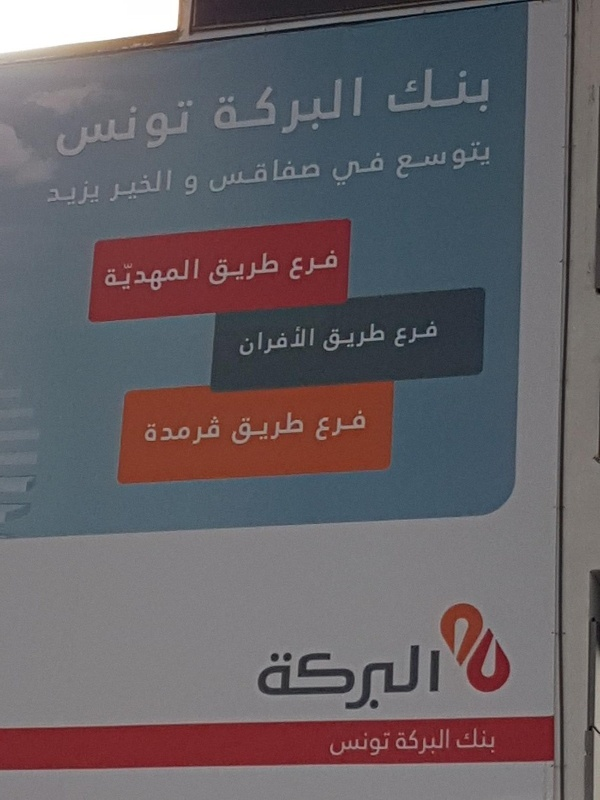text: (273, 642, 288, 714), (289, 642, 304, 714), (305, 642, 320, 714), (321, 642, 336, 714), (337, 642, 352, 714), (353, 642, 368, 714), (369, 642, 384, 714), (385, 642, 400, 714), (401, 642, 416, 714), (417, 642, 432, 714), (225, 74, 240, 142), (241, 74, 256, 142), (257, 74, 272, 142), (273, 74, 288, 142), (289, 74, 304, 142), (305, 74, 320, 142), (321, 74, 336, 142), (337, 74, 352, 142), (65, 96, 80, 160), (81, 96, 96, 160), (97, 96, 112, 160), (113, 96, 128, 160), (129, 96, 144, 160), (145, 96, 160, 160), (161, 96, 176, 160), (177, 96, 192, 160), (259, 642, 272, 714), (211, 74, 224, 142), (401, 63, 416, 119), (417, 63, 432, 119), (433, 63, 448, 119), (449, 63, 464, 119), (465, 63, 480, 119), (353, 74, 365, 142), (387, 63, 400, 119), (401, 138, 416, 181), (417, 138, 432, 181), (433, 138, 448, 181), (449, 138, 464, 181), (465, 138, 480, 181), (225, 152, 240, 195), (241, 152, 256, 195), (257, 152, 272, 195), (273, 152, 288, 195), (289, 152, 304, 195), (305, 152, 320, 195), (481, 63, 492, 119), (369, 150, 385, 187), (113, 255, 128, 293), (129, 255, 144, 293), (145, 255, 160, 293), (161, 255, 176, 293), (177, 255, 192, 293), (211, 152, 224, 195), (337, 150, 352, 187), (353, 150, 368, 187), (129, 166, 144, 203), (145, 166, 160, 203), (225, 250, 240, 286), (241, 250, 256, 286), (257, 250, 272, 286), (241, 323, 256, 357), (257, 323, 272, 357), (273, 323, 288, 357), (289, 323, 304, 357), (321, 409, 336, 443), (337, 409, 352, 443), (241, 412, 256, 446), (257, 412, 272, 446), (273, 412, 288, 446), (289, 412, 304, 446), (433, 642, 440, 714), (305, 248, 320, 281), (321, 248, 336, 281), (145, 414, 160, 447), (161, 414, 176, 447), (177, 414, 192, 447), (193, 414, 208, 447), (115, 166, 128, 203), (161, 166, 174, 203), (337, 321, 352, 353), (353, 321, 368, 353), (369, 321, 384, 353), (353, 409, 367, 443), (481, 138, 492, 181), (401, 319, 416, 349), (417, 319, 432, 349), (401, 727, 416, 756), (417, 727, 432, 756), (433, 727, 448, 756), (337, 729, 352, 758), (353, 729, 368, 758), (369, 729, 384, 758), (212, 250, 224, 286), (481, 727, 497, 754), (291, 248, 304, 281), (209, 414, 222, 447), (65, 178, 80, 206), (81, 178, 96, 206), (305, 323, 317, 357), (465, 727, 480, 754), (50, 178, 64, 206), (58, 96, 64, 160), (326, 321, 336, 353), (193, 255, 201, 293), (273, 250, 281, 286), (455, 727, 464, 754), (182, 174, 192, 198), (233, 412, 240, 446), (106, 255, 112, 293), (395, 138, 400, 181), (385, 729, 392, 758), (433, 319, 439, 349), (395, 319, 400, 349), (332, 150, 336, 187), (193, 174, 199, 198), (193, 96, 195, 160), (396, 727, 400, 756), (332, 729, 336, 758), (97, 178, 101, 206), (318, 409, 320, 443), (337, 248, 339, 281), (449, 727, 451, 756), (321, 152, 322, 195), (305, 412, 306, 446), (385, 321, 386, 353)
